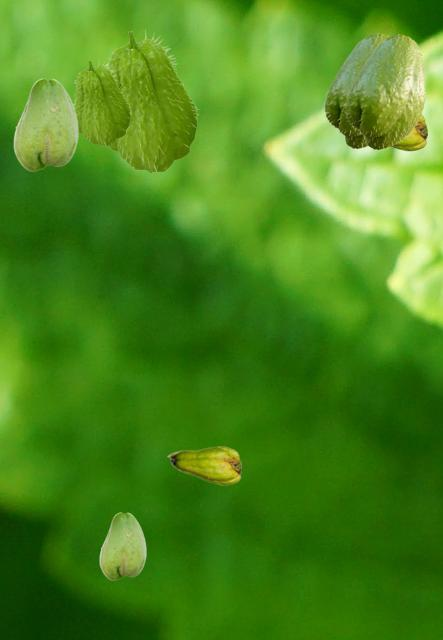sayote: (107, 29, 199, 172), (343, 34, 425, 150), (322, 33, 388, 149), (13, 78, 77, 170), (73, 59, 131, 145), (99, 512, 145, 579), (167, 446, 240, 484), (390, 114, 426, 150)
